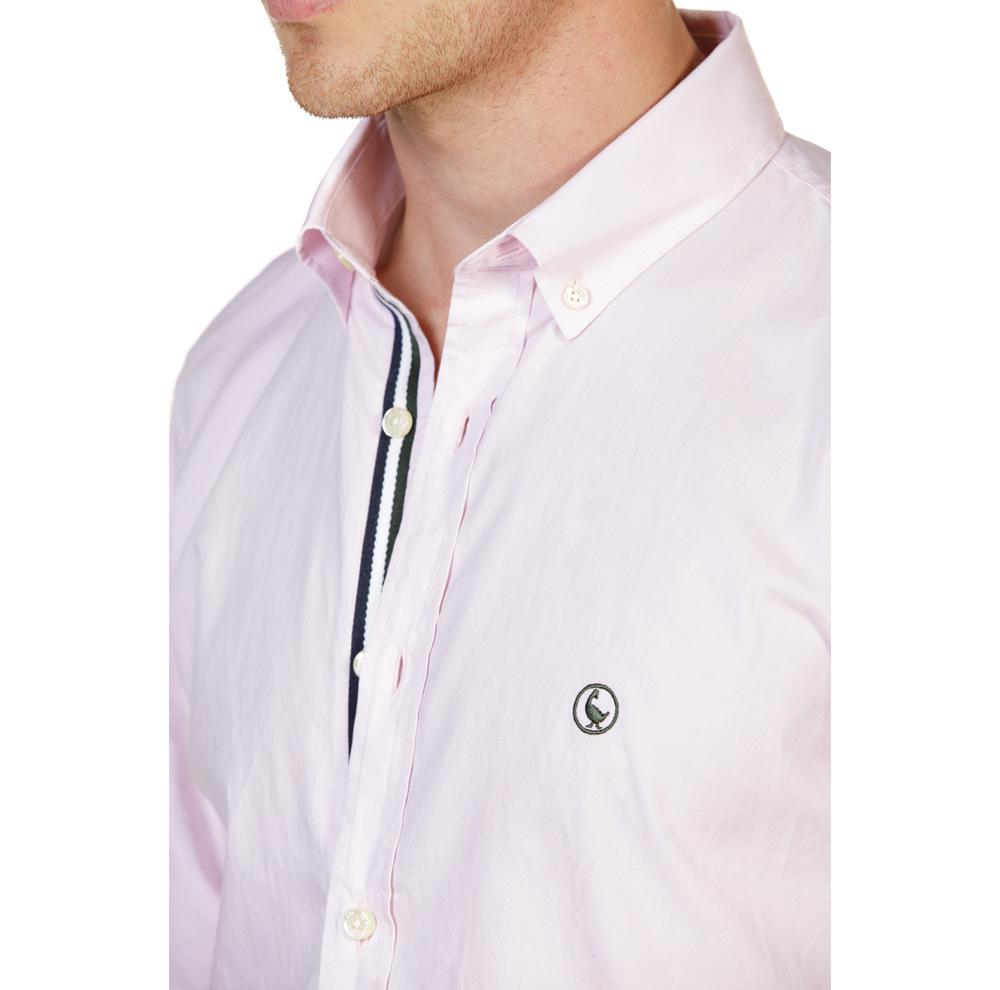teeshirt: (105, 8, 853, 990)
